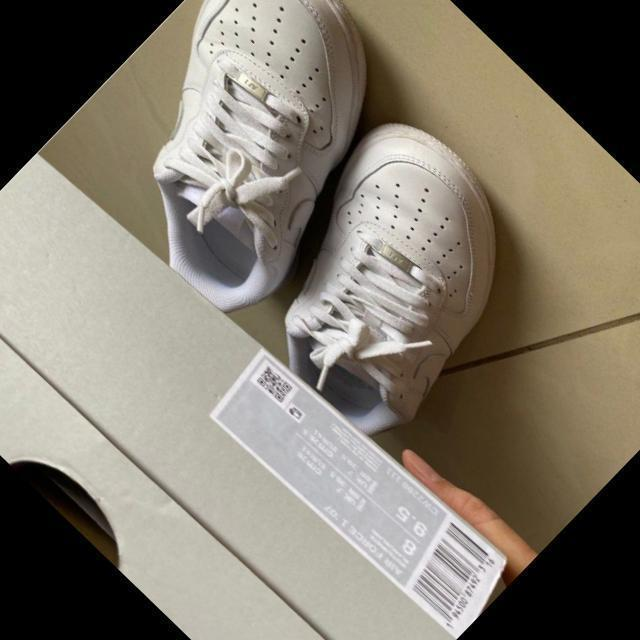nike original air force: (48, 0, 457, 332), (210, 94, 576, 459)
